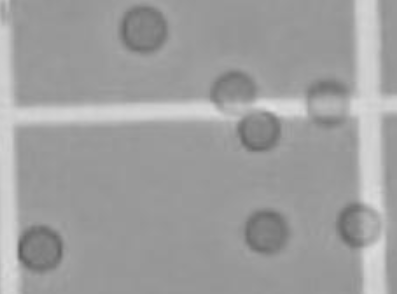cell: (236, 204, 297, 260), (116, 3, 173, 58), (332, 198, 387, 255), (302, 72, 354, 131), (12, 220, 67, 274), (207, 67, 260, 120), (234, 105, 286, 157)
